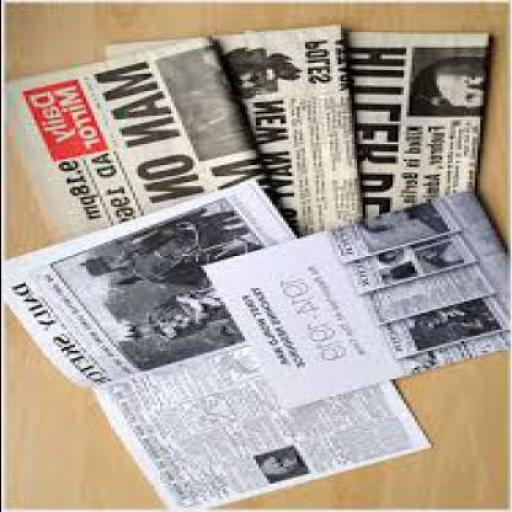paper: (1, 177, 427, 511), (197, 188, 509, 408), (1, 33, 271, 244), (104, 21, 359, 237), (322, 27, 488, 222)
